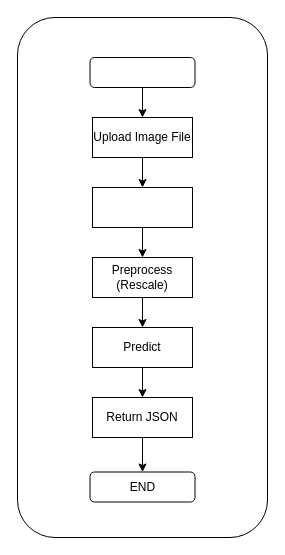
Some shapes in this 285 by 555 pixel diagram are drawn without their labels. The centre of each missing label's shape, as x and y in pixels:
Resize to (224x224): point (142, 207)
START: point (142, 72)
